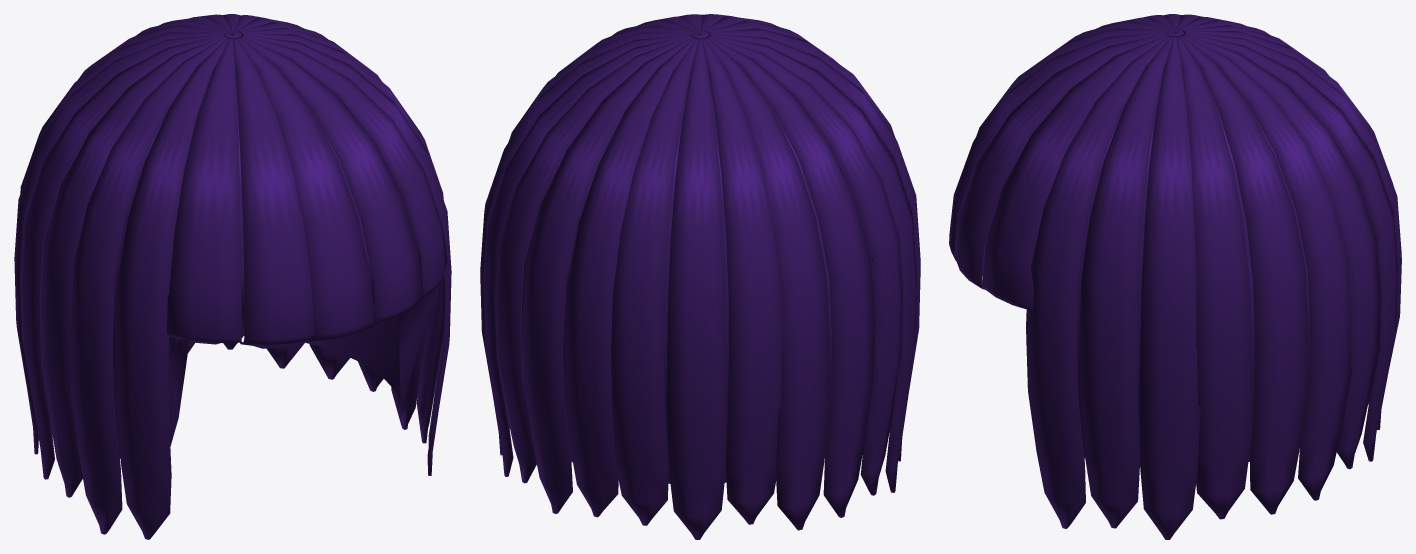
File: lengyue_hair_bob_v001.fbx
3 renders of one model, left to right at view 1: azimuth 30°, elevation 25°; view 2: azimuth 150°, elevation 25°; view 3: azimuth 270°, elevation 25°, orthographic. The views are drawn at different scales.
Parts seen in each view (by area): view 1: Lengyue_Bob_Hair; view 2: Lengyue_Bob_Hair; view 3: Lengyue_Bob_Hair.
Part boxes in pixels (box(x1,y1,x2,y2)): Lengyue_Bob_Hair: box(14, 14, 451, 539); Lengyue_Bob_Hair: box(480, 14, 920, 539); Lengyue_Bob_Hair: box(949, 14, 1401, 539).
Bounding box in the file's own units: 0.2495 × 0.2804 × 0.2674.
